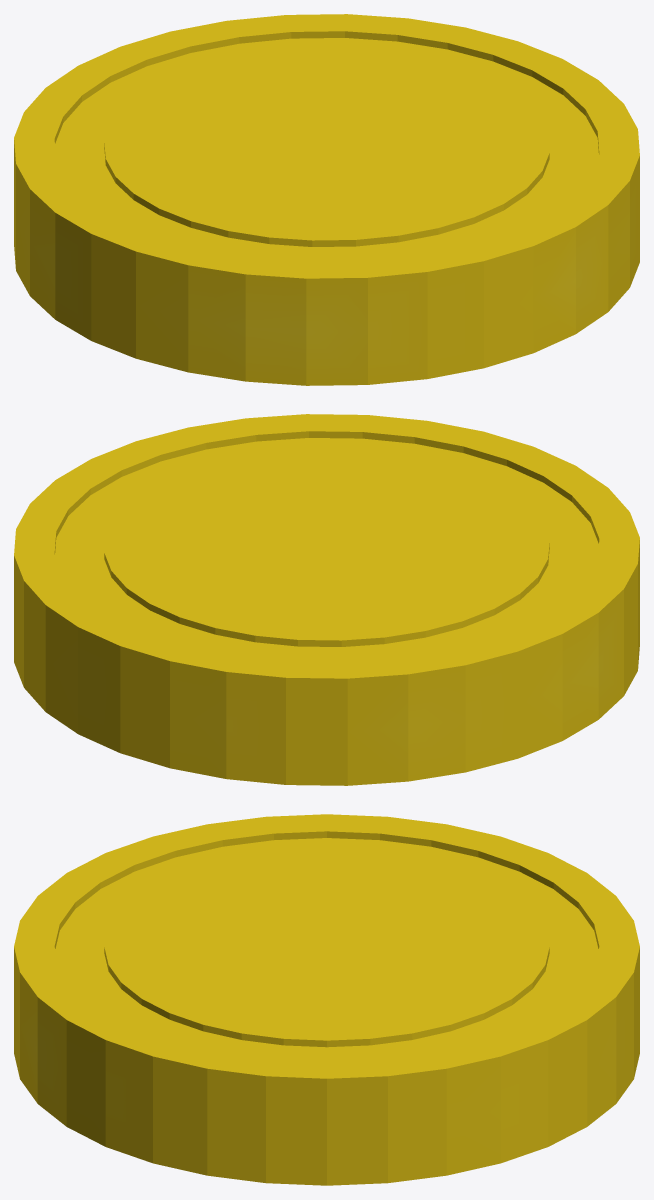
The model's file is Gold Coin.fbx.
3 views of the same model, one above another, from view 1: azimuth 30°, elevation 25°; view 2: azimuth 150°, elevation 25°; view 3: azimuth 270°, elevation 25° (orthographic).
Parts seen in each view (by area): view 1: Cylinder; view 2: Cylinder; view 3: Cylinder.
Part boxes in pixels (x1,y1,x2,y2): Cylinder: [14, 14, 639, 385]; Cylinder: [14, 414, 639, 785]; Cylinder: [14, 814, 639, 1185].
Bounding box in the file's own units: 200 × 37.71 × 200.
